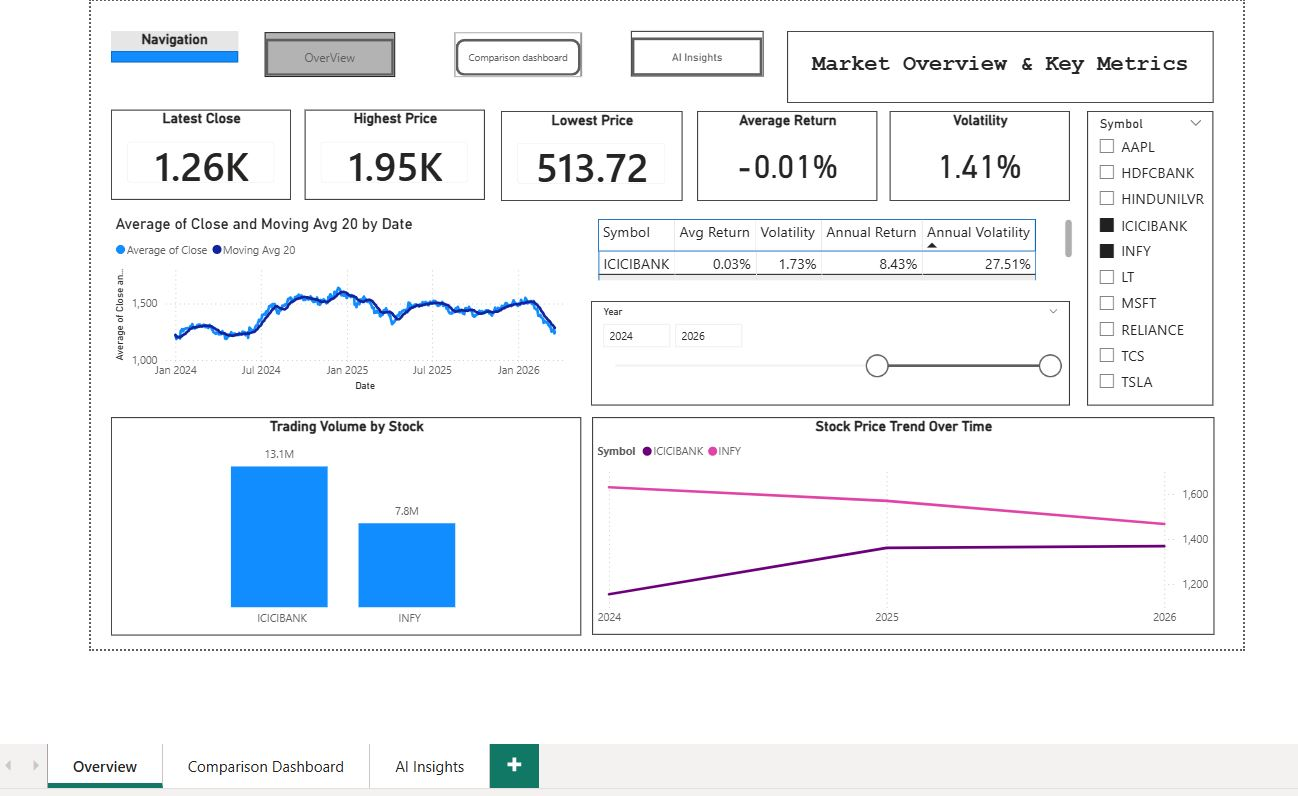

Layout of this report page (visuals, bound fields, positions):
{"tool":"powerbi","page":{"name":"Overview","canvas":[1280,720],"ordinal":0},"visuals":[{"type":"cardVisual","title":"Latest Close","fields":{"Data":["Combine_data.Latest Close"]},"box":[22.4,120.9,200,100],"z":0},{"type":"slicer","fields":{"Values":["Combine_data.Symbol"]},"box":[1107.5,122.4,140.3,326.9],"z":1000},{"type":"cardVisual","title":"Highest Price","fields":{"Data":["Combine_data.Highest Price"]},"box":[237.3,120.9,200,100],"z":2000},{"type":"cardVisual","title":"Lowest Price","fields":{"Data":["Combine_data.Lowest Price"]},"box":[455.2,122.4,201.5,100],"z":3000},{"type":"lineChart","title":"Stock Price Trend Over Time","fields":{"Y2":["Avg(Combine_data.Close)"],"Category":["Combine_data.Year"],"Series":["Combine_data.Symbol"]},"box":[556.7,462.7,691,241.8],"z":4000},{"type":"columnChart","title":"Trading Volume by Stock","fields":{"Category":["Combine_data.Symbol"],"Y":["Avg(Combine_data.Volume)"]},"box":[22.5,462.5,522.5,242.5],"z":5000},{"type":"card","title":"Average Return","fields":{"Values":["Combine_data.Avg Return"]},"box":[673.1,122.4,200,100],"z":6000},{"type":"card","title":"Volatility","fields":{"Values":["Combine_data.Volatility"]},"box":[888.1,122.4,200,100],"z":7000},{"type":"tableEx","fields":{"Values":["Combine_data.Symbol","Combine_data.Avg Return","Combine_data.Volatility","Combine_data.Annual Return","Combine_data.Annual Volatility"]},"box":[556.7,237.3,538.8,77.6],"z":8000},{"type":"textbox","box":[773.3,26.5,474.1,71.2],"z":9000},{"type":"slicer","fields":{"Values":["Combine_data.Year"]},"box":[556.2,333,532,115.8],"z":10000},{"type":"lineChart","fields":{"Category":["Combine_data.Date"],"Y":["Avg(Combine_data.Close)","Combine_data.Moving Avg 20"]},"box":[22.4,237.3,522.4,201.5],"z":11000},{"type":"pageNavigator","box":[22.9,26.5,742,71.2],"z":17001}]}

Visuals, with their boxes on the page's 1280x720 design canvas (x1, y1, x2, y2). These are canvas units, not pixel positions in the 1298x796 screenshot, which may show the page scaled, cropped or inside an application window:
"Latest Close" cardVisual: left=22, top=121, right=222, bottom=221
slicer - Combine_data.Symbol: left=1108, top=122, right=1248, bottom=449
"Highest Price" cardVisual: left=237, top=121, right=437, bottom=221
"Lowest Price" cardVisual: left=455, top=122, right=657, bottom=222
"Stock Price Trend Over Time" lineChart: left=557, top=463, right=1248, bottom=704
"Trading Volume by Stock" columnChart: left=22, top=462, right=545, bottom=705
"Average Return" card: left=673, top=122, right=873, bottom=222
"Volatility" card: left=888, top=122, right=1088, bottom=222
tableEx - Combine_data.Symbol x Combine_data.Avg Return: left=557, top=237, right=1096, bottom=315
textbox: left=773, top=26, right=1247, bottom=98
slicer - Combine_data.Year: left=556, top=333, right=1088, bottom=449
lineChart - Combine_data.Date x Avg(Combine_data.Close): left=22, top=237, right=545, bottom=439
pageNavigator: left=23, top=26, right=765, bottom=98
